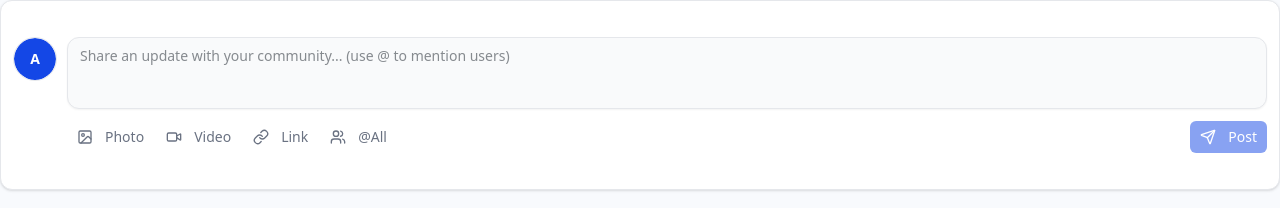
it: PostComposer › mention search › shows a dropdown after typing @
The width and height of the screenshot is (1280, 208).
Type "@Al" into the text box with placeholder "Share an update".
click(667, 73); type("@Al")  # box [67,37,1267,109]
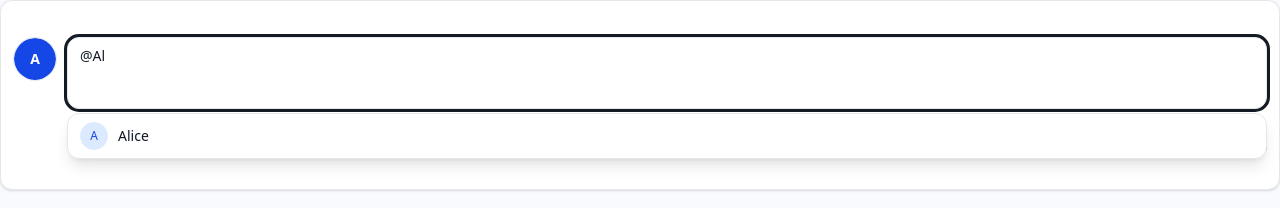
Check: the text "Alice" is shown, box [118,126,149,146]
